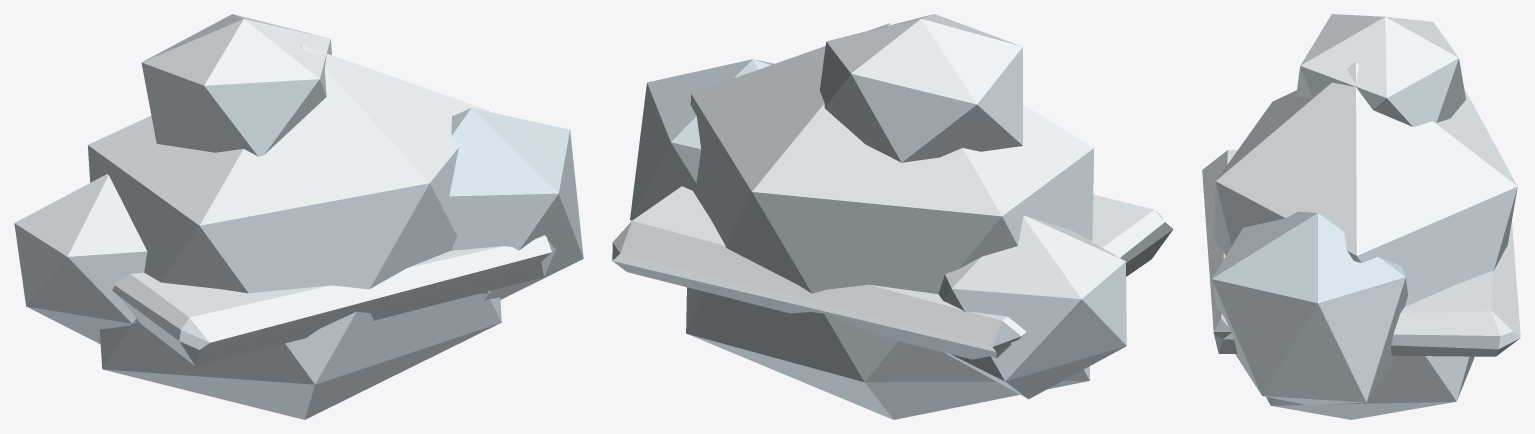
File: snow_bank_cover.glb
3 renders of one model, left to right at view 1: azimuth 30°, elevation 25°; view 2: azimuth 150°, elevation 25°; view 3: azimuth 270°, elevation 25°, orthographic. The views are drawn at different scales.
Parts seen in each view (by area): view 1: snow_bank_cover; view 2: snow_bank_cover; view 3: snow_bank_cover.
Boxes of the visible parts, x1,y1,x2,y2 form: snow_bank_cover: (14,14,583,419); snow_bank_cover: (612,14,1173,419); snow_bank_cover: (1202,14,1520,419).
Bounding box in the file's own units: 1.43 × 1.1 × 0.829.
